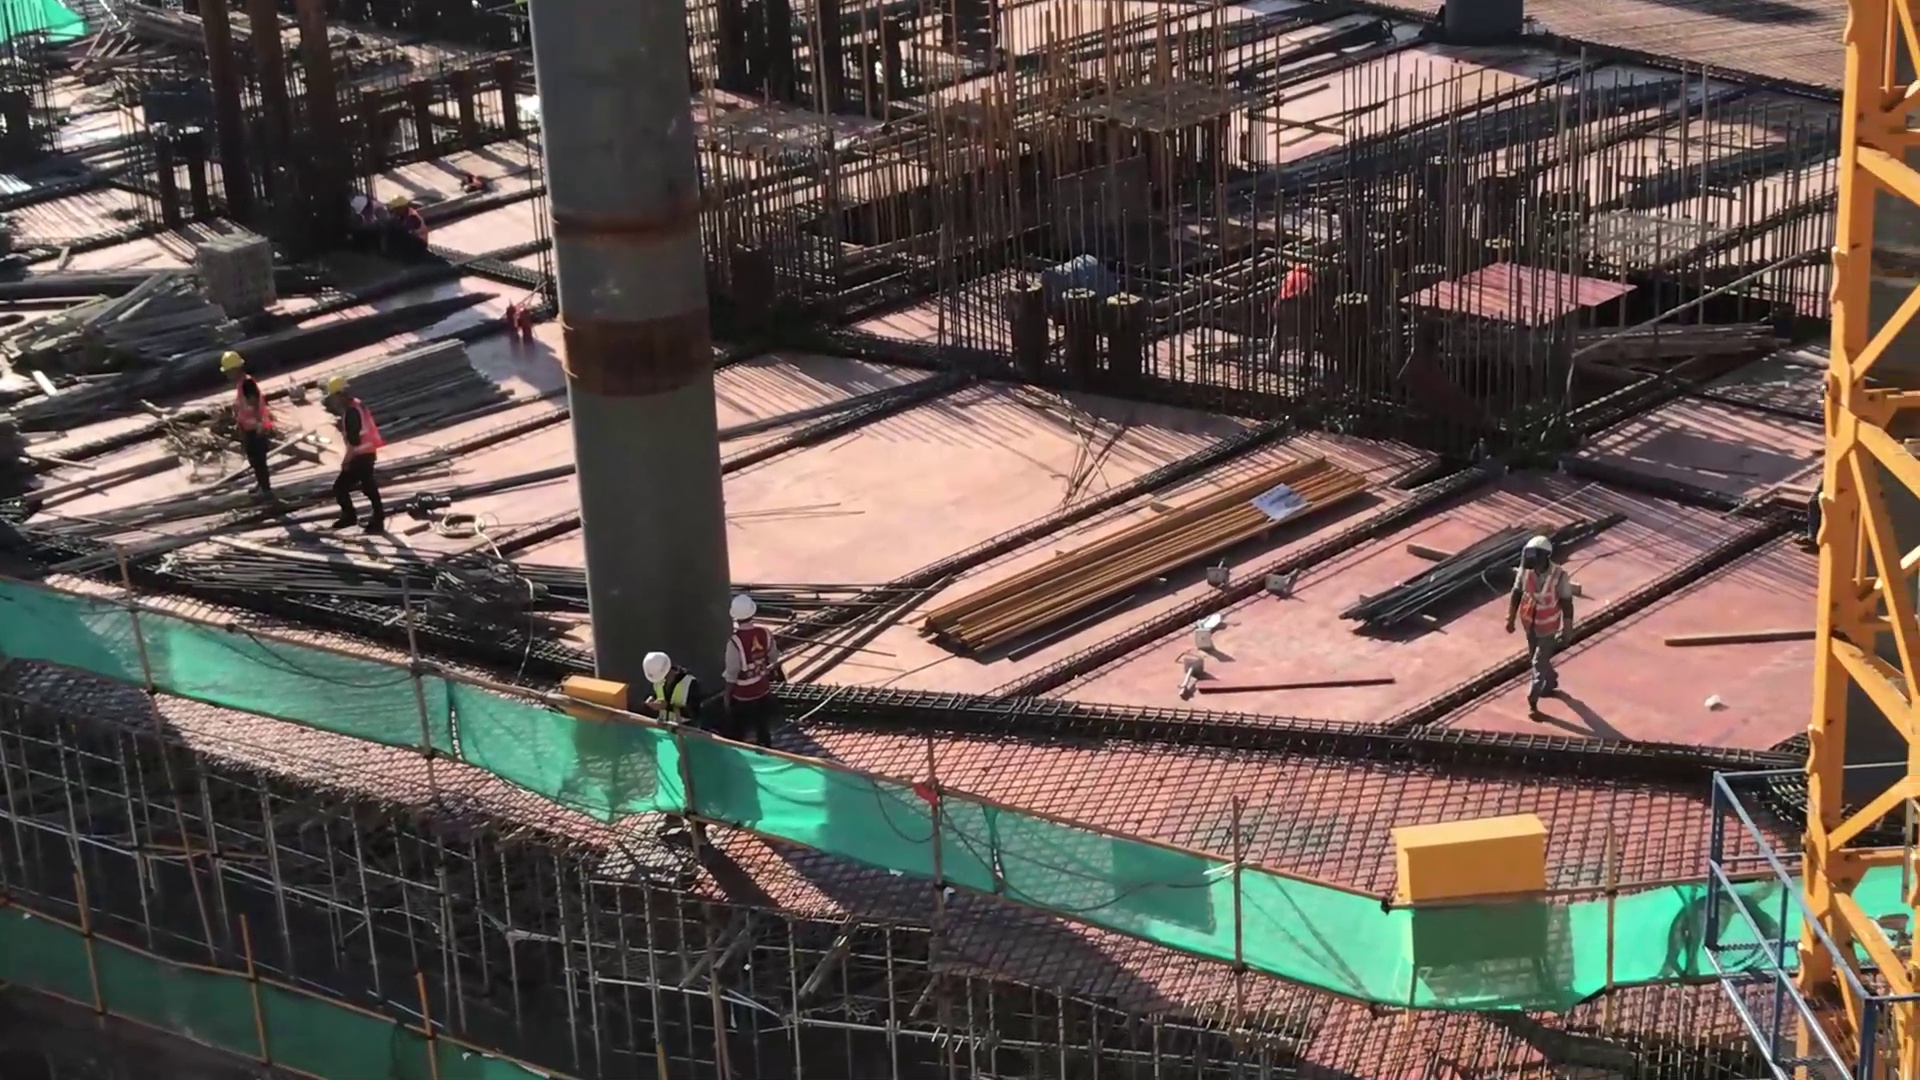helmet: (1516, 533, 1556, 577), (641, 648, 672, 686), (728, 593, 760, 625), (219, 346, 248, 374), (324, 373, 353, 397)
person: (1500, 535, 1586, 724), (319, 368, 389, 537), (719, 587, 795, 737), (218, 345, 286, 501), (640, 642, 699, 732), (386, 190, 443, 252)
vest: (723, 624, 780, 703), (1514, 565, 1565, 642), (334, 395, 385, 454), (230, 372, 272, 442), (647, 671, 694, 727), (398, 206, 431, 243)
